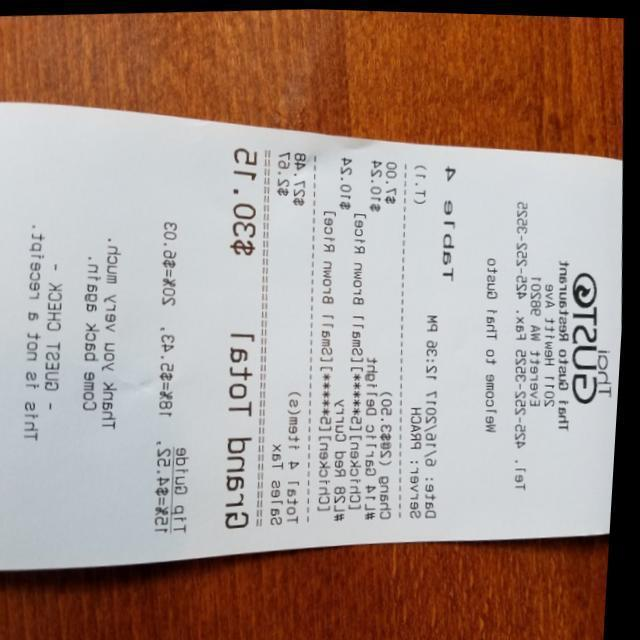Paper: (0, 65, 637, 588)
